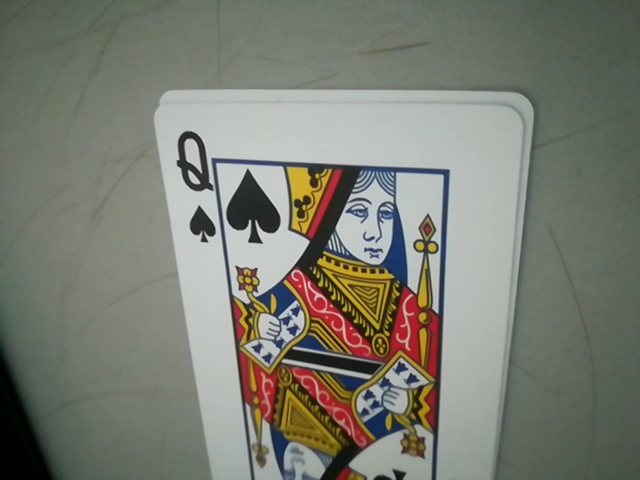ht q: (165, 118, 233, 250)
